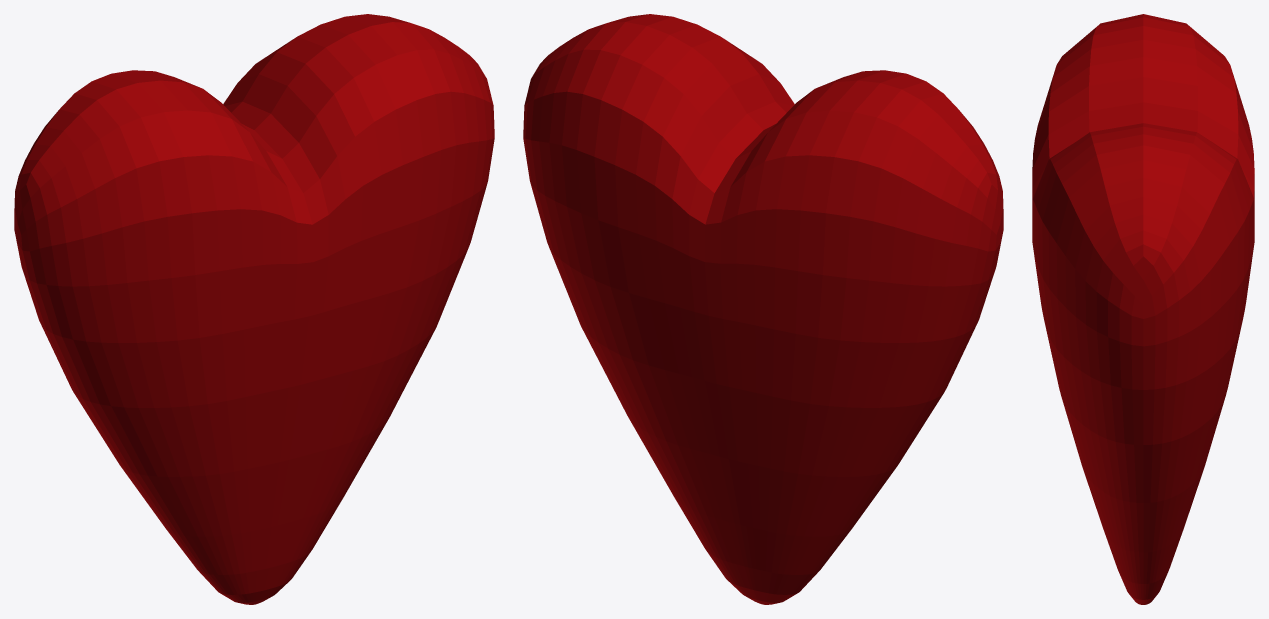
Rendered from heart.fbx.
3 renders of one model, left to right at view 1: azimuth 30°, elevation 25°; view 2: azimuth 150°, elevation 25°; view 3: azimuth 270°, elevation 25°, orthographic. The views are drawn at different scales.
Visible parts, largest first — view 1: Cone; view 2: Cone; view 3: Cone.
Boxes of the visible parts, box(x1,y1,x2,y2) form: Cone: box(14, 14, 494, 604); Cone: box(523, 14, 1003, 604); Cone: box(1032, 14, 1254, 604).
Bounding box in the file's own units: 174 × 198 × 76.35.
